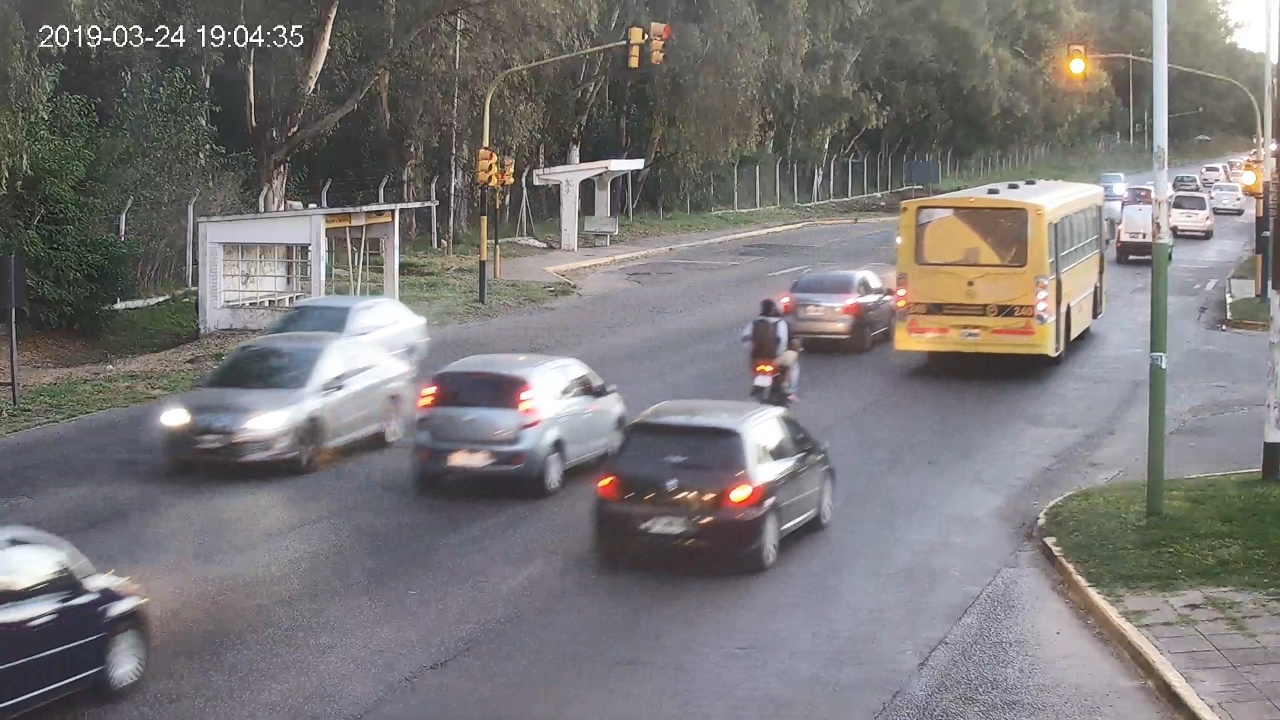bus: (893, 179, 1116, 364)
car: (592, 399, 836, 568), (1, 525, 152, 720)
motorcycle: (742, 317, 805, 403)
traffic light: (1068, 44, 1086, 82)
